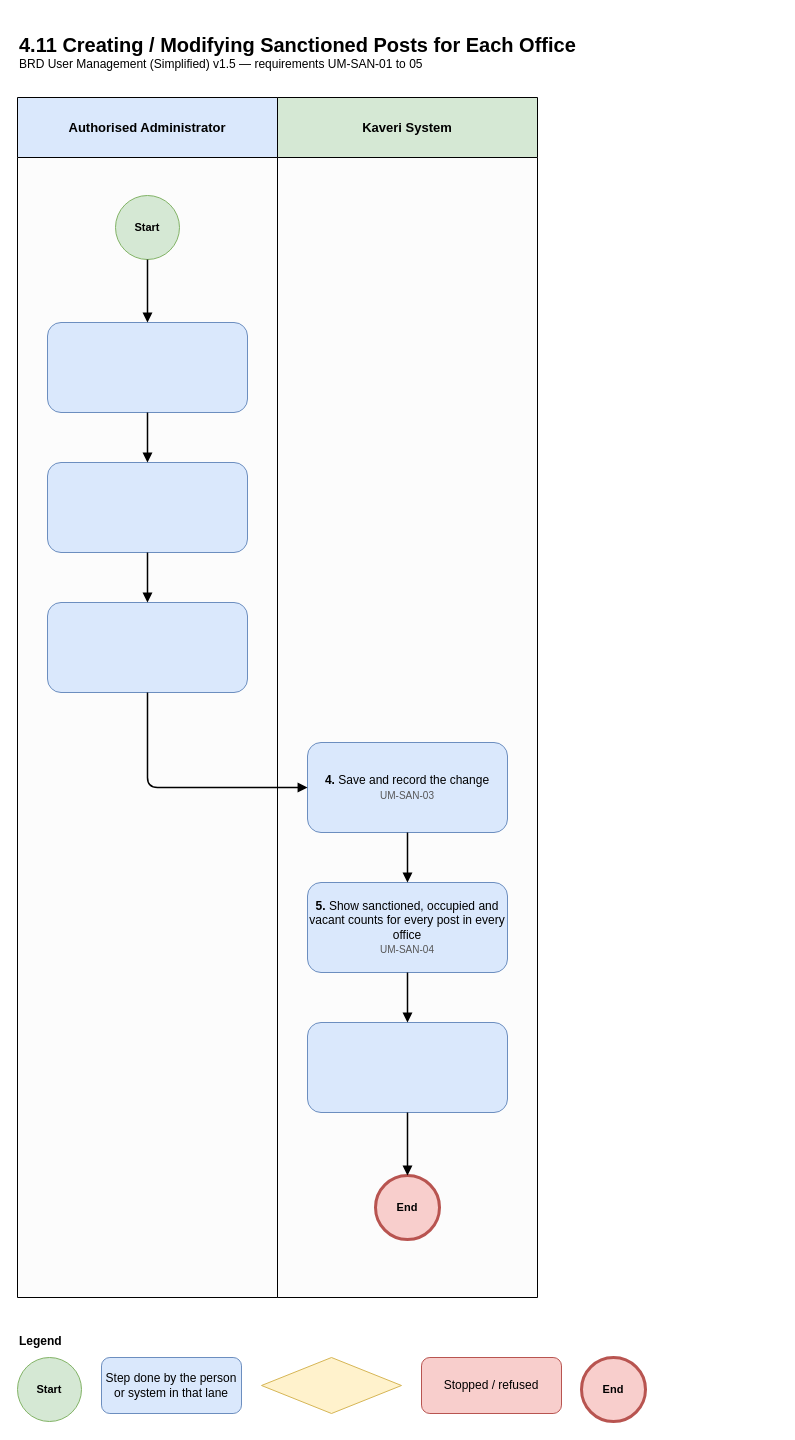
This 795x1440 diagram has some shape labels left out. The box of each missing label's shape, as (x1, y1, x2, y2) in pixels:
1. Add or change a post and link it to a division UM-SAN-01: (46, 322, 248, 412)
2. Set which types of office the post can exist in UM-SAN-02: (46, 462, 248, 552)
3. Set the sanctioned strength of the post in each office UM-SAN-03: (46, 602, 248, 692)
6. Allow officers to be placed only where there is a vacancy UM-SAN-05: (306, 1022, 508, 1112)
Check / choice: (260, 1356, 402, 1414)
